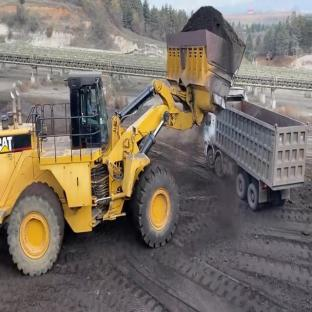Vehicle: (204, 90, 312, 222)
